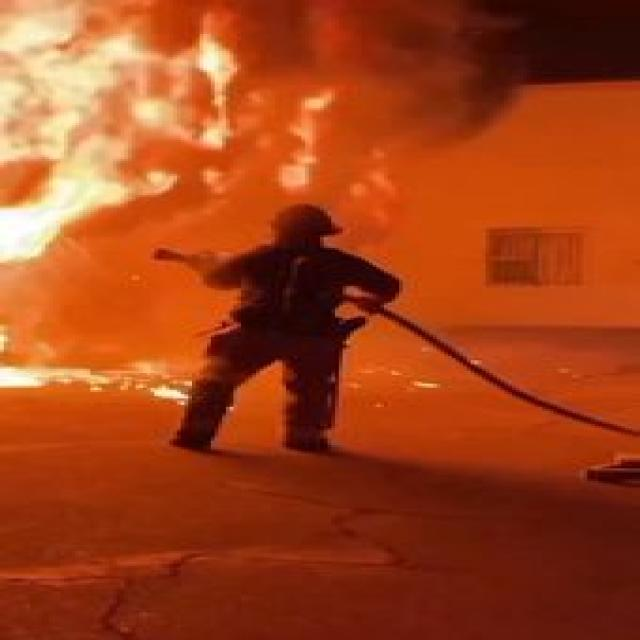Fire: (0, 8, 250, 390), (248, 0, 466, 215)
